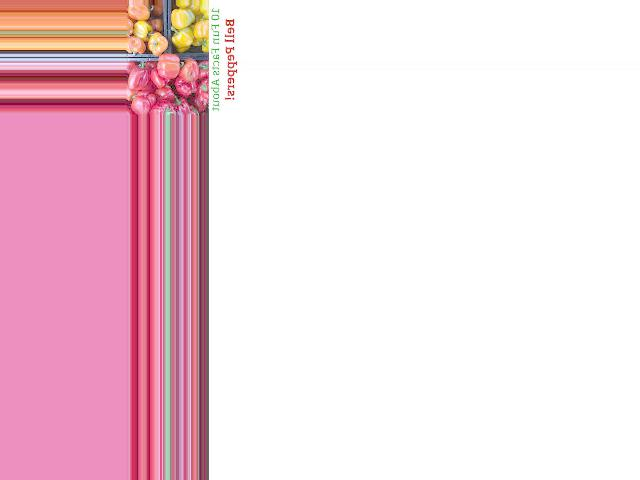bell_pepper: (192, 73, 212, 103)
